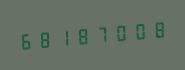eight: (36, 24, 54, 53), (150, 14, 168, 43), (74, 21, 92, 49)
one: (55, 23, 73, 51)
seven: (93, 19, 111, 48)
six: (17, 26, 35, 54)
zero: (112, 18, 130, 46), (131, 16, 149, 44)
